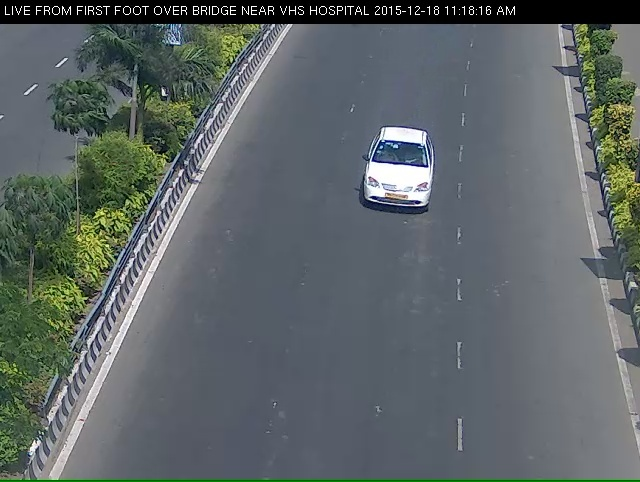Car: (353, 137, 436, 243)
